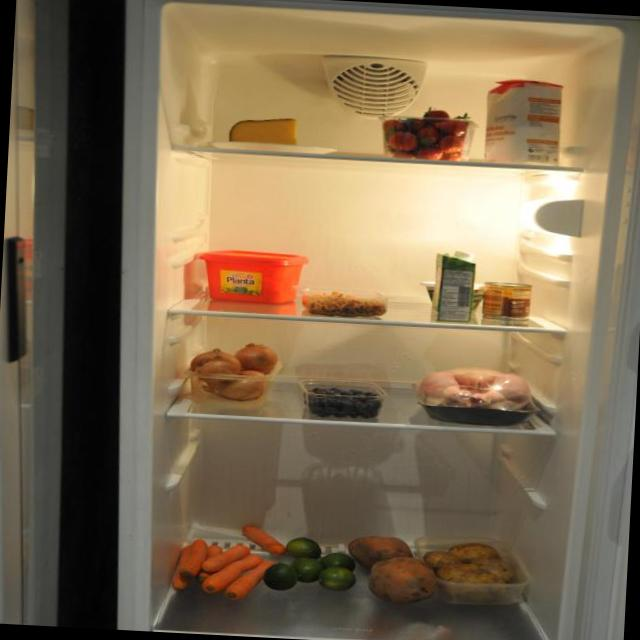Carne pollo: (413, 361, 545, 429)
Cebolla: (188, 339, 278, 405)
Gambas/Langostinos: (302, 286, 389, 318)
Mantequilla: (197, 246, 305, 310)
Patata: (422, 534, 534, 608)
Queso: (224, 115, 302, 152), (417, 280, 486, 314)
Zanahoria: (170, 520, 288, 604)
blueberries: (299, 377, 392, 423)
corn: (484, 278, 539, 326)
heavy_cream: (433, 248, 475, 324)
strawberries: (380, 104, 480, 163)
sugar: (482, 72, 567, 166)
sweet_potato: (347, 528, 441, 610)
